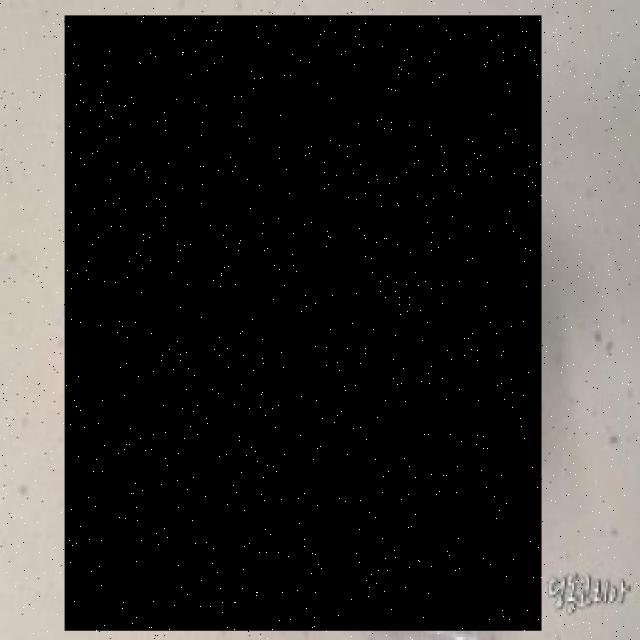Sweet_Potato: (64, 15, 542, 631)
